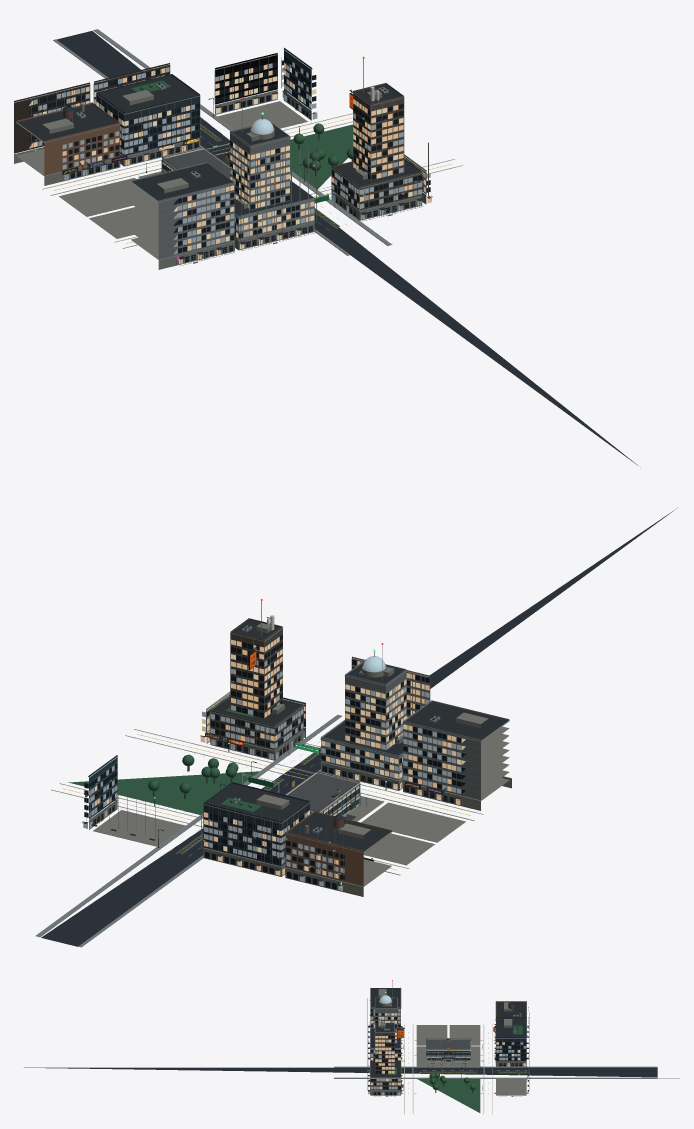
The model's file is ext-police.glb.
The picture shows the model from 3 angles, top to bottom: view 1: azimuth 30°, elevation 25°; view 2: azimuth 150°, elevation 25°; view 3: azimuth 270°, elevation 25°; orthographic projection. The views are drawn at different scales.
Parts seen in each view (by area): view 1: Downtown AC grille crop, FC_STAGE_PoliceDepartment_01; view 2: Downtown AC grille crop, FC_STAGE_PoliceDepartment_01; view 3: Downtown AC grille crop, FC_STAGE_PoliceDepartment_01.
Boxes of the visible parts, <box> form: Downtown AC grille crop: <box>14,29,640,467</box>; FC_STAGE_PoliceDepartment_01: <box>42,89,462,265</box>; Downtown AC grille crop: <box>35,508,676,947</box>; FC_STAGE_PoliceDepartment_01: <box>51,644,483,875</box>; Downtown AC grille crop: <box>24,981,679,1112</box>; FC_STAGE_PoliceDepartment_01: <box>368,1024,521,1114</box>.
Size of the model in its own units: 163 by 66.65 by 504.
Materials: 26 (26 with a texture image).
